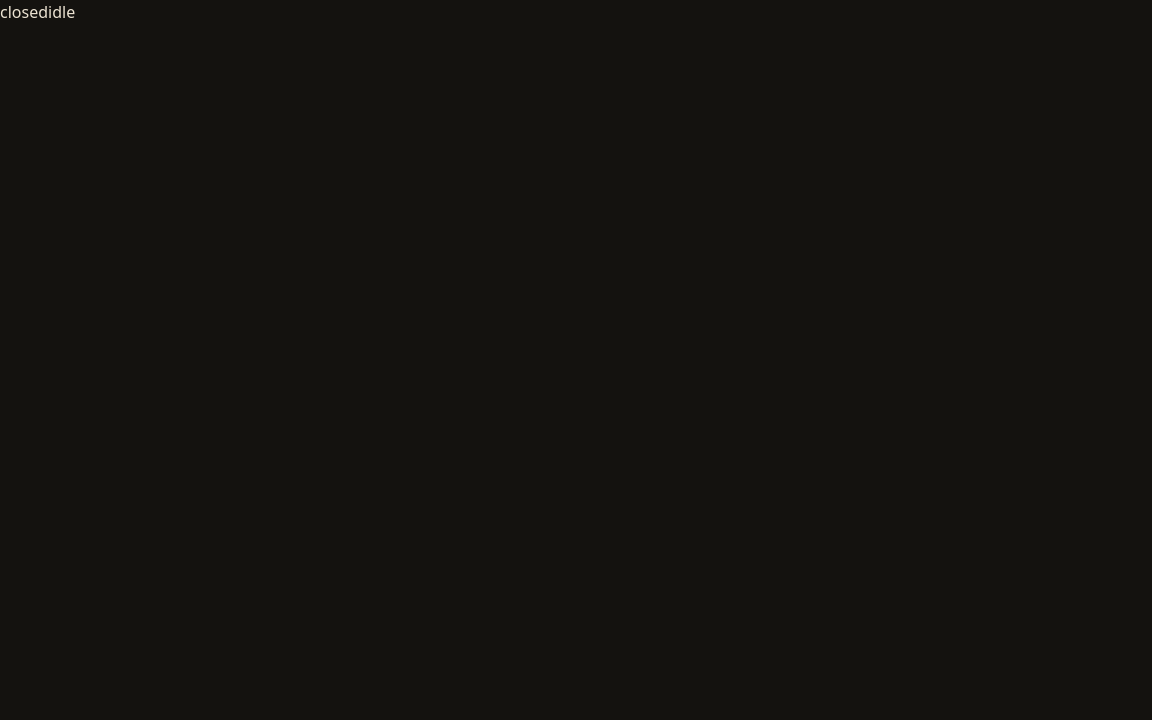
jest çarkı — kapanma yolları (D18) › zemine DOKUNMA (pointerdown) çarkı kapatır
Press g
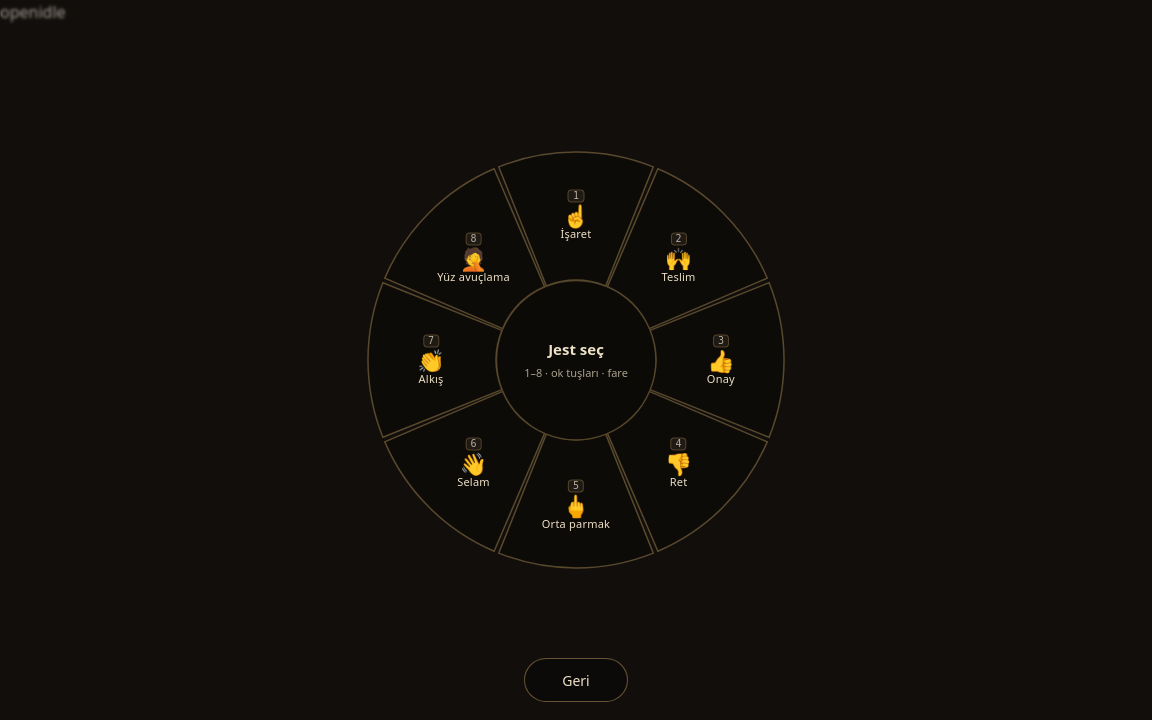
Check: the text with test id "open" reads "open", box [0, 1, 38, 23]
Press the mouse on the dialog with class "emote-wheel" at coordinates (576, 360), box [0, 0, 1151, 719]
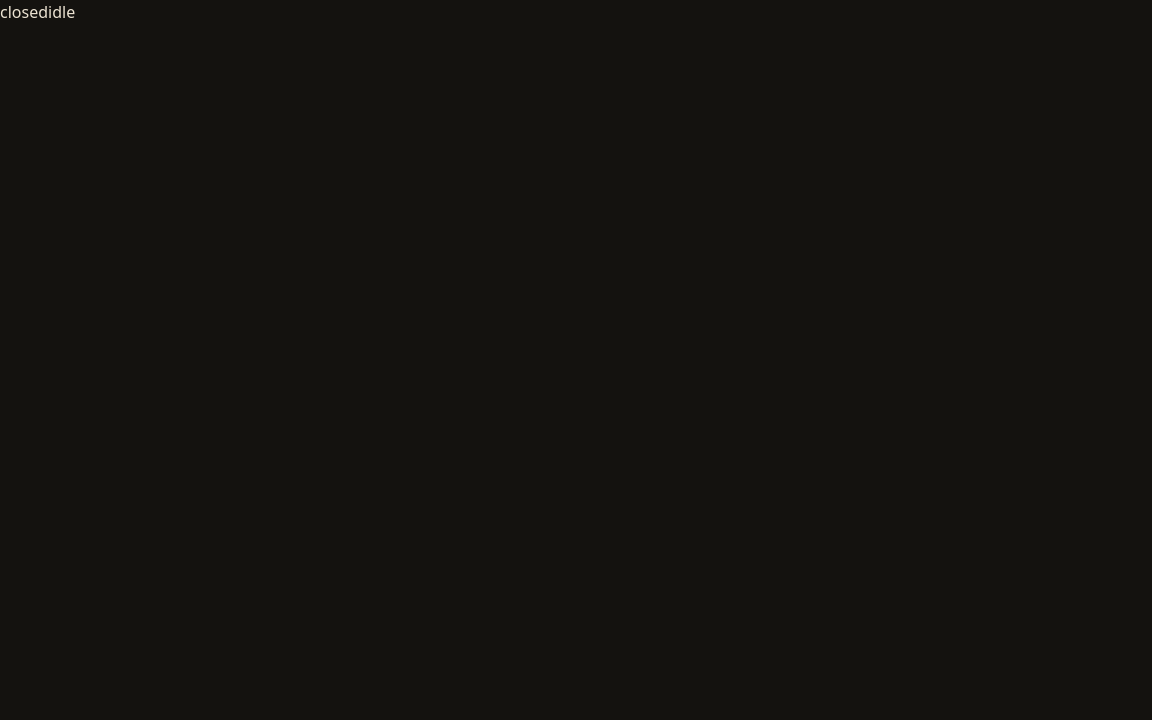
Check: the text with test id "open" reads "closed", box [0, 1, 48, 23]
